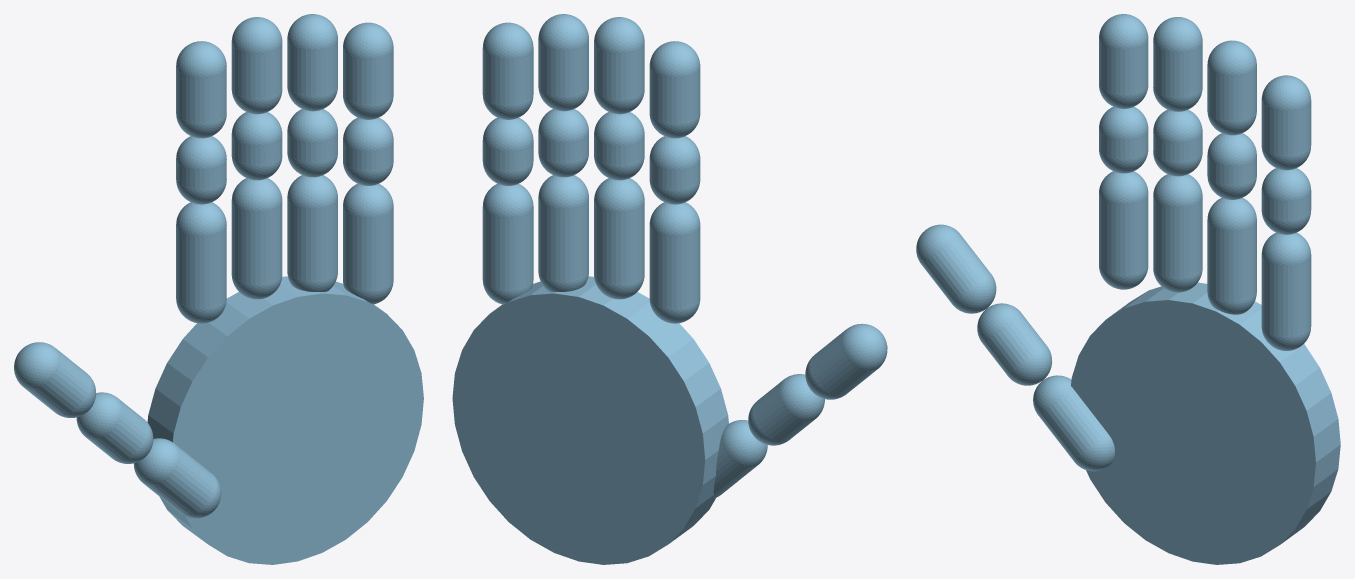
File: shadow_hand_left_canonical.glb
3 views of the same model, side by side, from view 1: azimuth 30°, elevation 25°; view 2: azimuth 150°, elevation 25°; view 3: azimuth 330°, elevation 25° (orthographic). The views are drawn at different scales.
Visible parts, largest first — view 1: world; view 2: world; view 3: world.
Part boxes in pixels (left/top/right/bottom): world: left=14, top=14, right=423, bottom=564; world: left=452, top=14, right=887, bottom=564; world: left=916, top=14, right=1340, bottom=564.
Size of the model in its own units: 0.1608 by 0.204 by 0.026.
